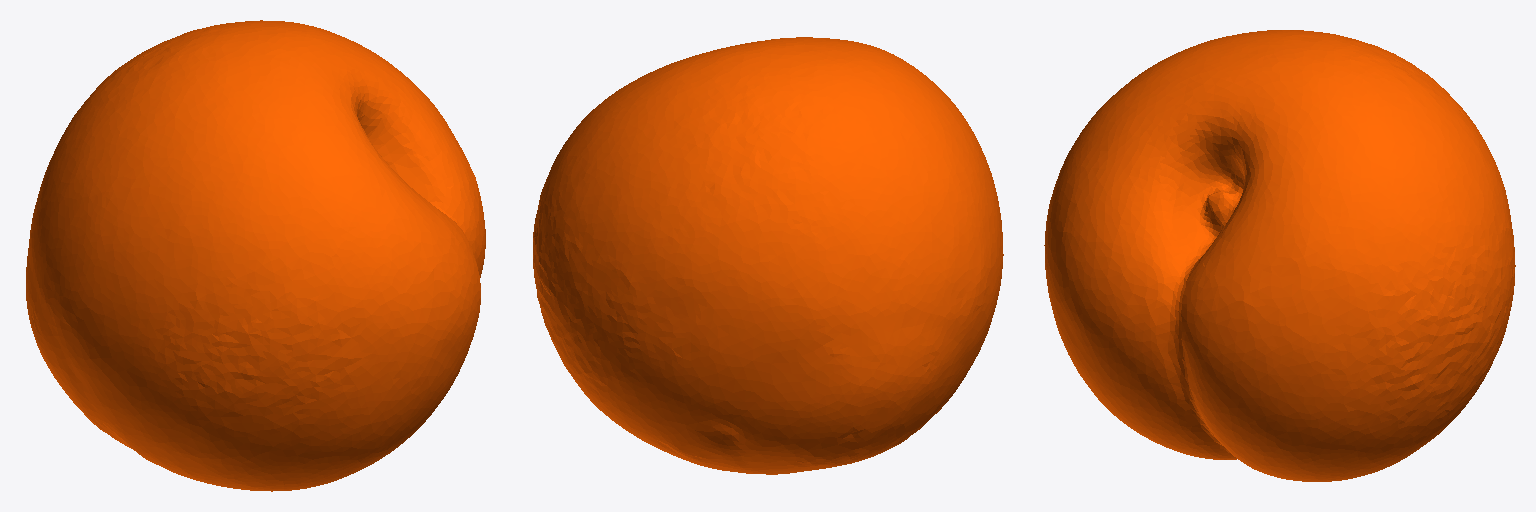
The robot description file, URDF, robot "015_peach":
<?xml version="1.0" ?>
<robot name="015_peach">
   <material name="obj_color">
      <color rgba="1.0 0.423529411765 0.0392156862745 1.0"/>
   </material>
   <link name="top">
      <inertial>
         <origin rpy="8.032617938019581e-05 8.71032717025167e-05 8.991801777016722e-05" xyz="-0.0006853057329604265 -0.0004012728738563763 -0.002963611881331807"/>
         <mass value="0.2297390526920435"/>
         <inertia ixx="8.562428394826414e-05" ixy="-3.861832525855675e-06" ixz="9.268549092619003e-07" iyy="8.316522192420267e-05" iyz="-1.116778237108844e-06" izz="8.855796298041291e-05"/>
      </inertial>
      <visual>
         <origin rpy="0 0 0" xyz="0 0 0"/>
         <geometry>
            <mesh filename="top_watertight_tiny.stl" scale="1 1 1"/>
         </geometry>
         <material name="obj_color"/>
      </visual>
      <collision>
         <origin rpy="0 0 0" xyz="0 0 0"/>
         <geometry>
            <mesh filename="top_watertight_tiny.obj" scale="1 1 1"/>
         </geometry>
      </collision>
   </link>
   <link name="bottom">
      <inertial>
         <origin rpy="1.633333333199431e-08 1.633333333199431e-08 1.633333333362855e-08" xyz="0.3464080000000008 0.3464080000000008 0.3464080000000008"/>
         <mass value="0.0009800000000000017"/>
         <inertia ixx="1.633333333253906e-08" ixy="5.447480642029219e-19" ixz="5.447480642029219e-19" iyy="1.633333333253906e-08" iyz="5.447480642029219e-19" izz="1.633333333253906e-08"/>
      </inertial>
      <visual>
         <origin rpy="0 0 0" xyz="0 0 0"/>
         <geometry>
            <mesh filename="bottom_watertight_tiny.stl" scale="1 1 1"/>
         </geometry>
         <material name="obj_color"/>
      </visual>
   </link>
   <link name="world"/>
   <joint name="world_to_base" type="fixed">
      <origin xyz="0 0 0"/>
      <axis xyz="0 0 0"/>
      <parent link="world"/>
      <child link="bottom"/>
   </joint>
   <joint name="rotation" type="revolute">
      <origin xyz="0 0 0"/>
      <axis xyz="0 0 -1"/>
      <parent link="bottom"/>
      <child link="top"/>
      <dynamics damping="1.0" friction="1.0"/>
      <limit effort="0.1" velocity="0.1" lower="0" upper="0.001"/>
   </joint>
</robot>

--- Render facts (derived) ---
Views: 3 orthographic renders of the robot side by side, from view 1: azimuth 30°, elevation 25°; view 2: azimuth 150°, elevation 25°; view 3: azimuth 270°, elevation 25°.
Model 015_peach with 3 links and 2 joints (1 revolute, 1 fixed), rooted at world, posed all joints at 0.
Links seen in each view (by area): view 1: top; view 2: top; view 3: top.
Boxes of the visible links, <box> form: top: <box>26,20,485,491</box>; top: <box>533,37,1003,474</box>; top: <box>1044,30,1515,481</box>.
Bounding box of the posed robot: 0.0621 × 0.0626 × 0.0586 m (x, y, z).
1 mesh visuals loaded from 2 distinct referenced files (1 binary STL); not drawn: 1 (reference not matched to a file when rendering).
